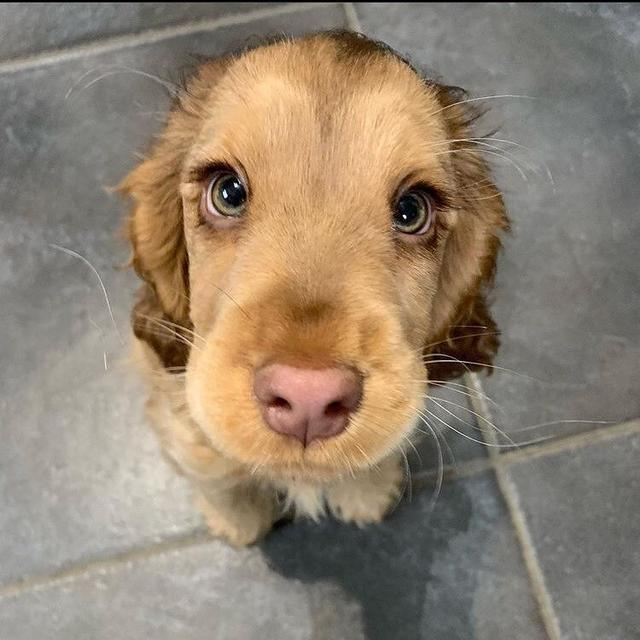eye: (192, 157, 255, 226), (388, 174, 442, 246)
